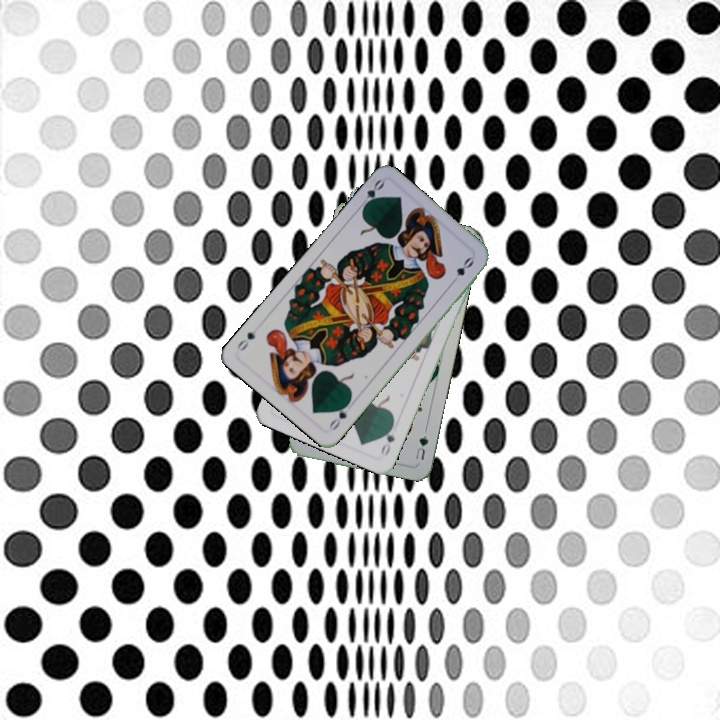GO: (355, 175, 387, 213), (325, 397, 353, 433), (377, 419, 398, 458)
GU: (411, 431, 431, 462)
